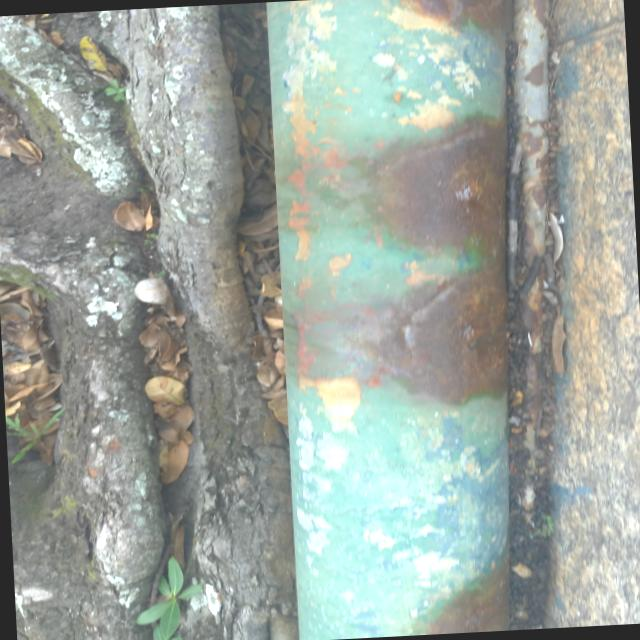gas: (255, 0, 544, 640)
